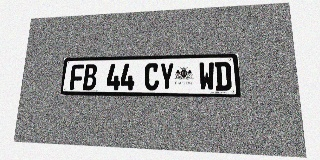4: (120, 63, 135, 90), (106, 64, 121, 90)
B: (83, 64, 97, 90)
C: (144, 63, 159, 90)
D: (215, 62, 232, 91)
F: (69, 64, 84, 90)
W: (199, 62, 215, 91)
Y: (159, 63, 174, 90)
